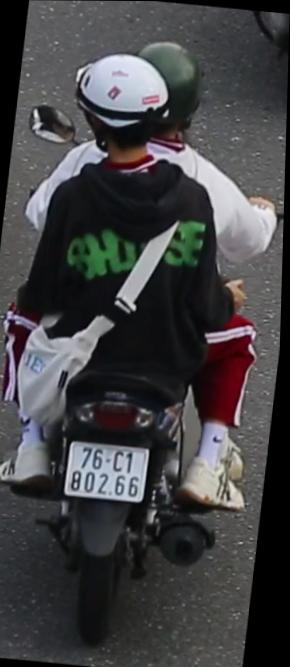LP: (64, 432, 153, 509)
helmet: (57, 46, 171, 169), (127, 30, 209, 150)
